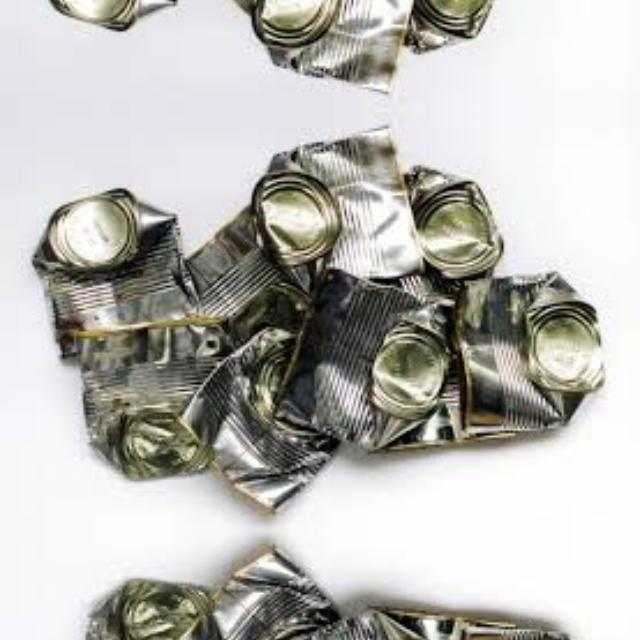Metal: (272, 266, 452, 452), (175, 328, 345, 516), (29, 187, 202, 366), (252, 121, 426, 292), (70, 314, 232, 480), (456, 270, 604, 440), (252, 0, 426, 96), (175, 543, 345, 640), (70, 579, 231, 640), (272, 606, 452, 640), (29, 0, 202, 31), (455, 619, 604, 640)
